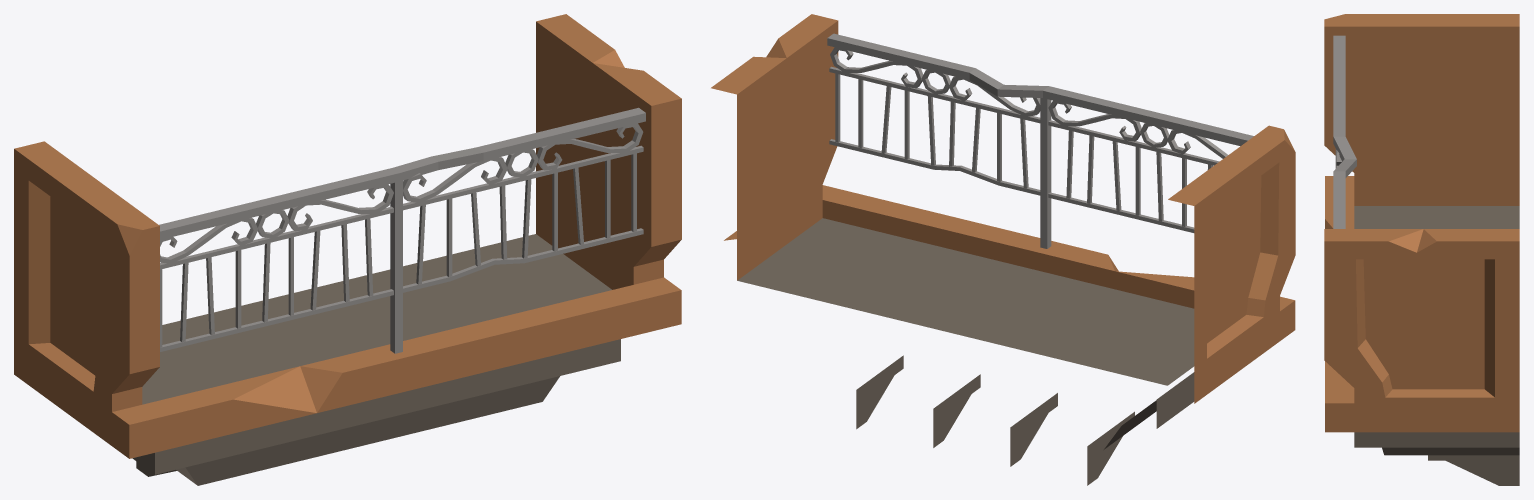
Rendered from SM_Bld_Cuba_Balcony_01.glb.
3 renders of one model, left to right at view 1: azimuth 30°, elevation 25°; view 2: azimuth 150°, elevation 25°; view 3: azimuth 270°, elevation 25°, orthographic. The views are drawn at different scales.
Parts seen in each view (by area): view 1: SM_Bld_Cuba_Balcony_01; view 2: SM_Bld_Cuba_Balcony_01; view 3: SM_Bld_Cuba_Balcony_01.
Part boxes in pixels (bbox=[...]): SM_Bld_Cuba_Balcony_01: bbox=[14, 14, 681, 485]; SM_Bld_Cuba_Balcony_01: bbox=[711, 14, 1295, 485]; SM_Bld_Cuba_Balcony_01: bbox=[1324, 14, 1519, 485].
Size of the model in its own units: 0.0236 by 0.0142 by 0.00854.
